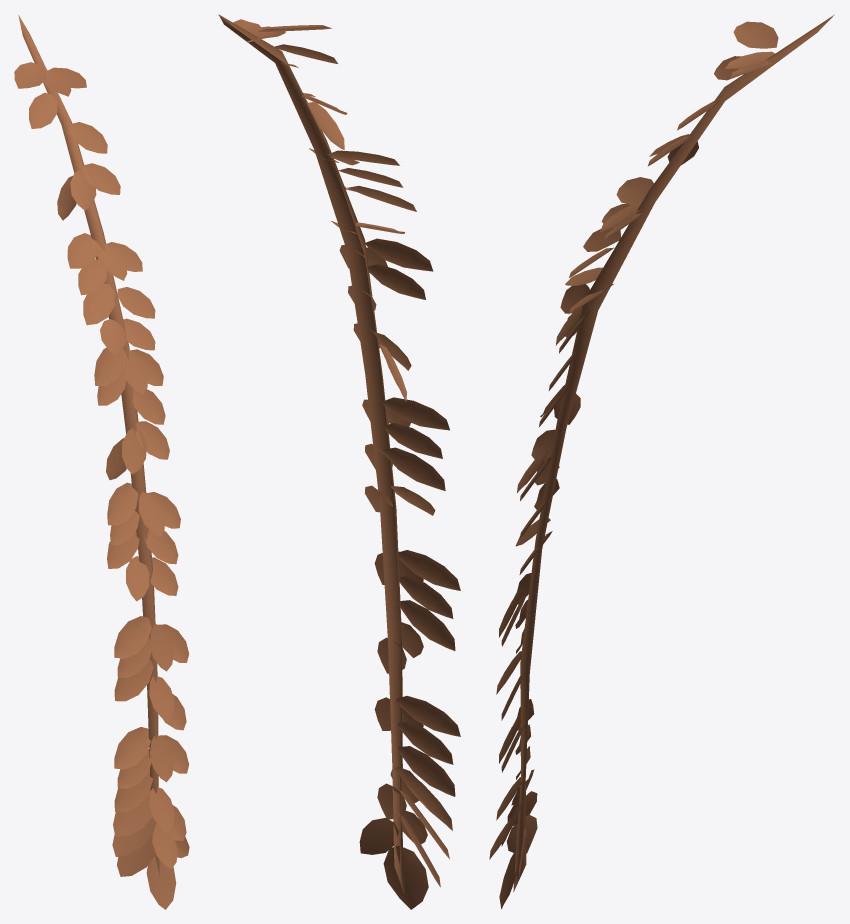
File: HangingLeaves.fbx
3 renders of one model, left to right at view 1: azimuth 30°, elevation 25°; view 2: azimuth 150°, elevation 25°; view 3: azimuth 270°, elevation 25°, orthographic. The views are drawn at different scales.
Visible parts, largest first — view 1: hanging_vine; view 2: hanging_vine; view 3: hanging_vine.
Part boxes in pixels (bbox=[...]): hanging_vine: bbox=[14, 15, 189, 909]; hanging_vine: bbox=[218, 14, 460, 909]; hanging_vine: bbox=[489, 14, 834, 909].
Size of the model in its own units: 0.4281 by 4.24 by 1.48.
